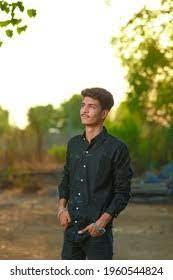Human: (55, 79, 130, 260)
